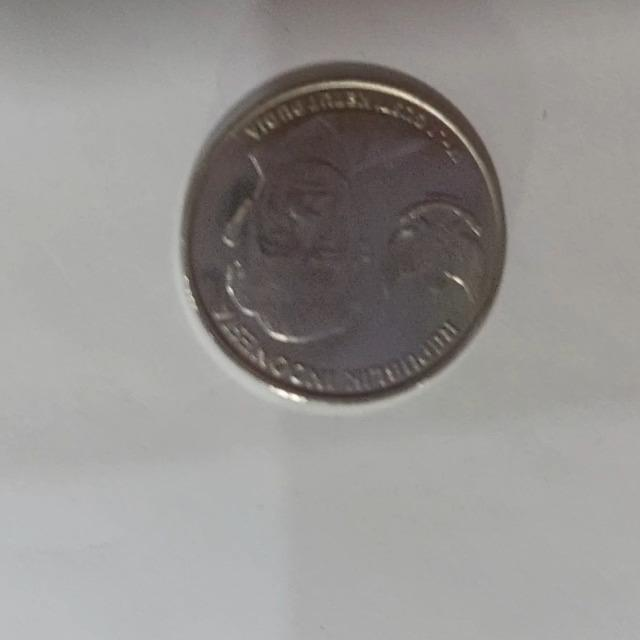Rp100: (178, 59, 508, 408)
